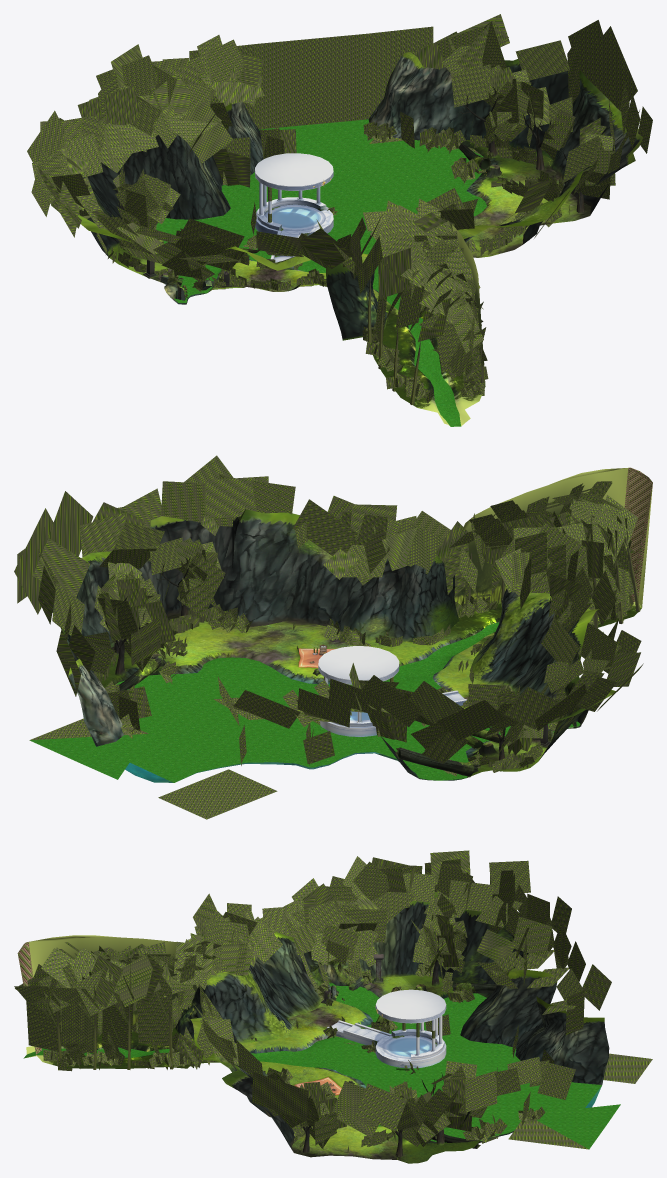
File: picnic_in_the_garden.glb
3 views of the same model, one above another, from view 1: azimuth 30°, elevation 25°; view 2: azimuth 150°, elevation 25°; view 3: azimuth 270°, elevation 25° (orthographic). The views are drawn at different scales.
Visible parts, largest first — view 1: BackSide_0, FrontSide_0, FrontSide_13, FrontSide_8, FrontSide_10; view 2: BackSide_0, FrontSide_0, FrontSide_13, FrontSide_8, FrontSide_16, FrontSide_10; view 3: BackSide_0, FrontSide_0, FrontSide_13, FrontSide_8, FrontSide_10, FrontSide_16.
Boxes of the visible parts, x1=… form: BackSide_0: x1=27, y1=14, x2=652, y2=403; FrontSide_0: x1=77, y1=52, x2=642, y2=340; FrontSide_13: x1=156, y1=119, x2=486, y2=426; FrontSide_8: x1=108, y1=87, x2=590, y2=425; FrontSide_10: x1=255, y1=153, x2=333, y2=269; BackSide_0: x1=14, y1=455, x2=643, y2=819; FrontSide_0: x1=43, y1=509, x2=615, y2=778; FrontSide_13: x1=30, y1=622, x2=580, y2=782; FrontSide_8: x1=99, y1=545, x2=641, y2=782; FrontSide_16: x1=298, y1=467, x2=652, y2=667; FrontSide_10: x1=318, y1=645, x2=466, y2=736; BackSide_0: x1=14, y1=850, x2=652, y2=1157; FrontSide_0: x1=175, y1=892, x2=609, y2=1152; FrontSide_13: x1=23, y1=982, x2=620, y2=1149; FrontSide_8: x1=26, y1=929, x2=601, y2=1163; FrontSide_10: x1=327, y1=989, x2=446, y2=1068; FrontSide_16: x1=17, y1=935, x2=341, y2=1095.
Bounding box in the file's own units: 94.22 × 26.35 × 102.
21 materials, 21 textured.
